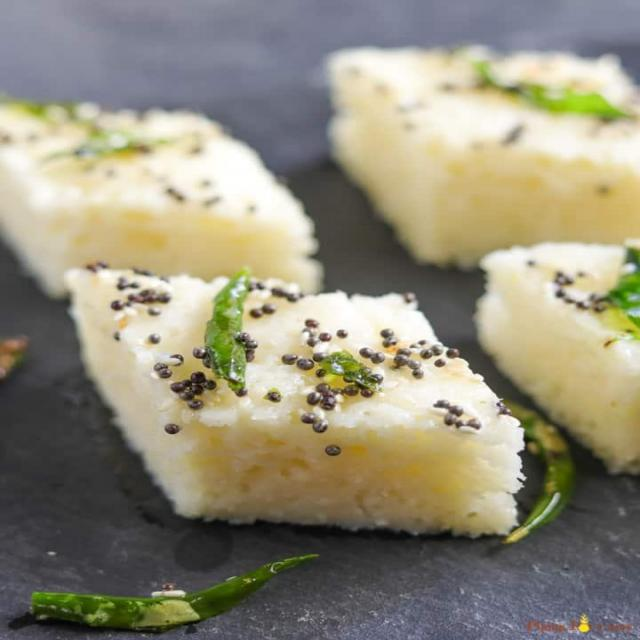dhokla: (0, 46, 640, 560)
